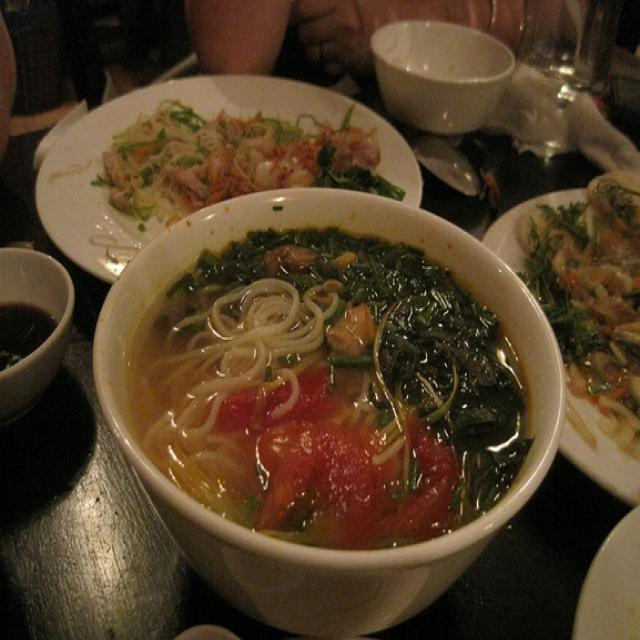面条主食: (91, 191, 558, 598)
